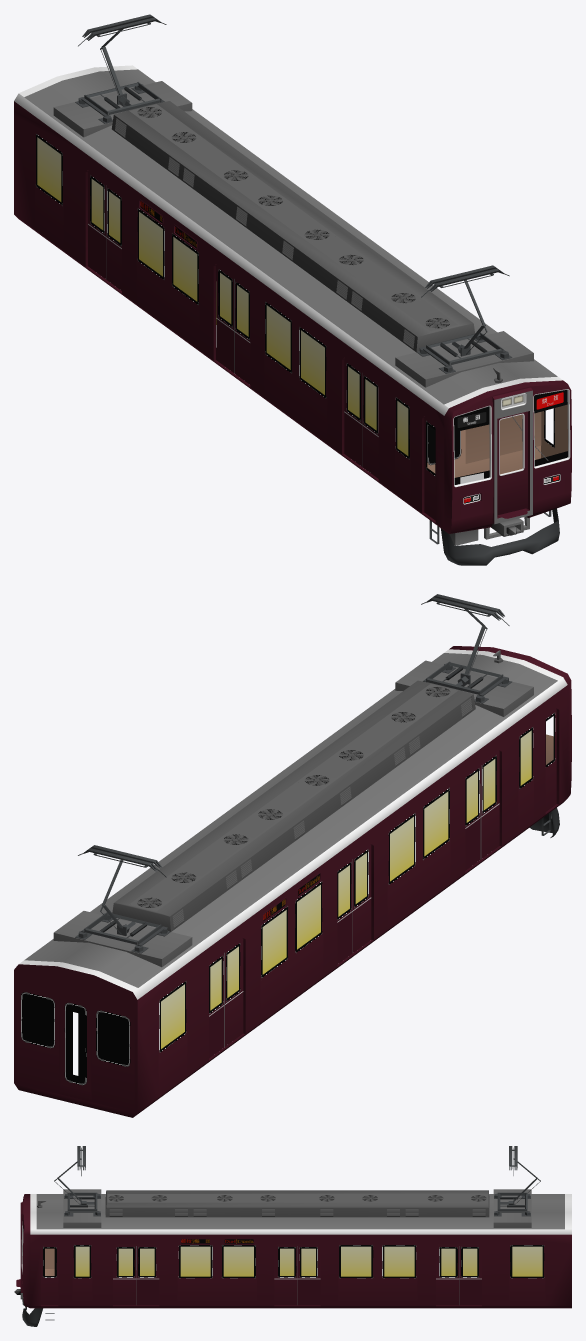
The model's file is CHAR_SEL_8200.glb.
The picture shows the model from 3 angles, top to bottom: view 1: azimuth 30°, elevation 25°; view 2: azimuth 150°, elevation 25°; view 3: azimuth 270°, elevation 25°; orthographic projection. The views are drawn at different scales.
Parts seen in each view (by area): view 1: FRAME_ROOT; view 2: FRAME_ROOT; view 3: FRAME_ROOT.
Part boxes in pixels (x1,y1,x2,y2): FRAME_ROOT: (14, 14, 571, 565); FRAME_ROOT: (14, 594, 571, 1117); FRAME_ROOT: (14, 1146, 571, 1326).
Size of the model in its own units: 6.25 by 12.16 by 38.73.
Materials: 16 (15 with a texture image).
